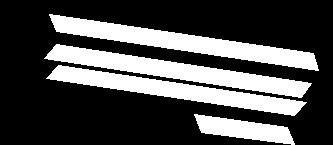parkingspot: (49, 14, 318, 70), (44, 44, 311, 97), (46, 65, 306, 115), (194, 114, 294, 144)
